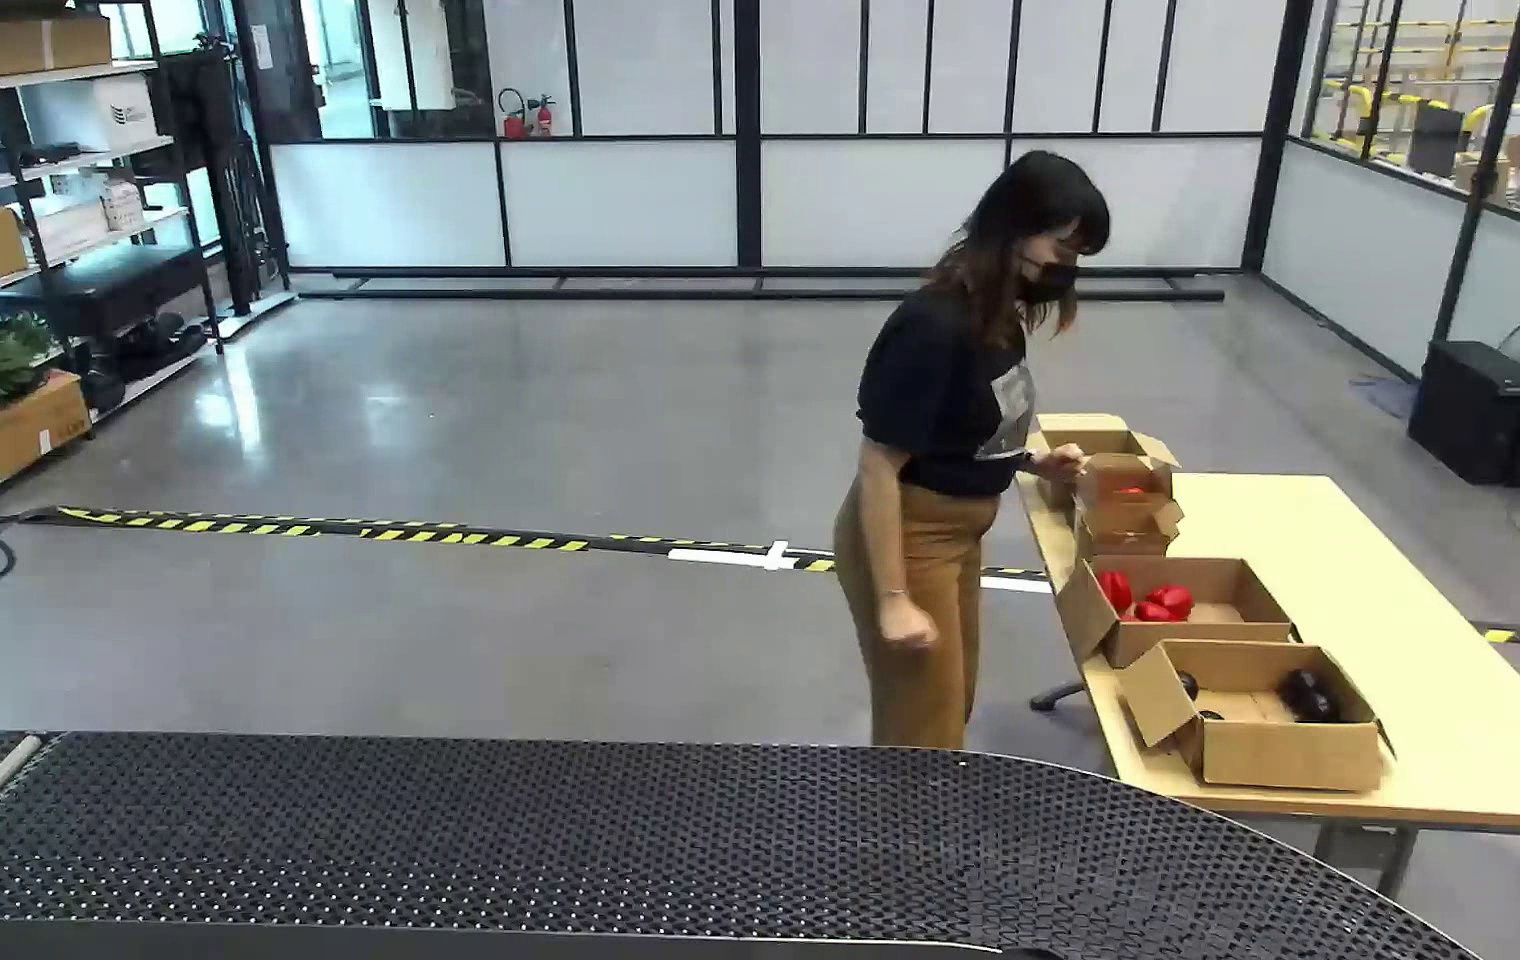Main droite: (872, 597, 942, 658)
